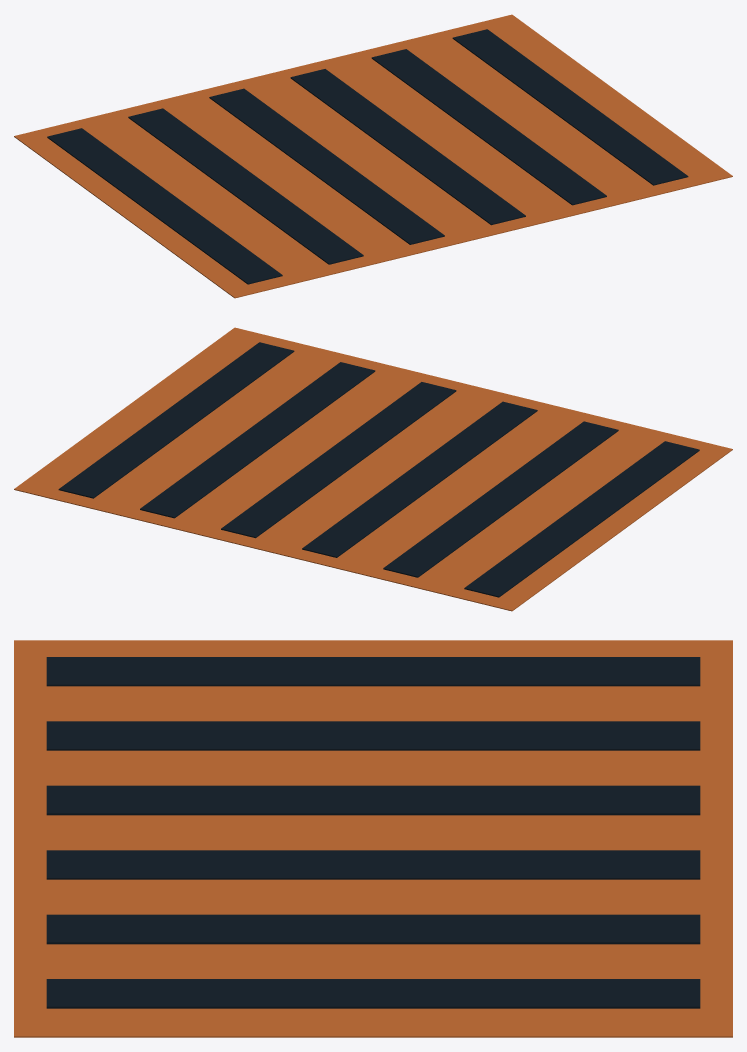
The model's file is 136_L109_Layer02_Reference.fbx.
3 renders of one model, top to bottom at view 1: azimuth 30°, elevation 25°; view 2: azimuth 150°, elevation 25°; view 3: azimuth 270°, elevation 25°, orthographic. The views are drawn at different scales.
Parts seen in each view (by area): view 1: L109_Layer02_Reference_COPPER, L109_Layer02_Reference_PCB; view 2: L109_Layer02_Reference_COPPER, L109_Layer02_Reference_PCB; view 3: L109_Layer02_Reference_COPPER, L109_Layer02_Reference_PCB.
Boxes of the visible parts, x1=… form: L109_Layer02_Reference_COPPER: x1=14, y1=14, x2=732, y2=298; L109_Layer02_Reference_PCB: x1=47, y1=29, x2=688, y2=284; L109_Layer02_Reference_COPPER: x1=14, y1=327, x2=732, y2=611; L109_Layer02_Reference_PCB: x1=58, y1=342, x2=699, y2=597; L109_Layer02_Reference_COPPER: x1=14, y1=640, x2=732, y2=1037; L109_Layer02_Reference_PCB: x1=46, y1=657, x2=700, y2=1008.
Size of the model in its own units: 43 by 33 by 0.165.
